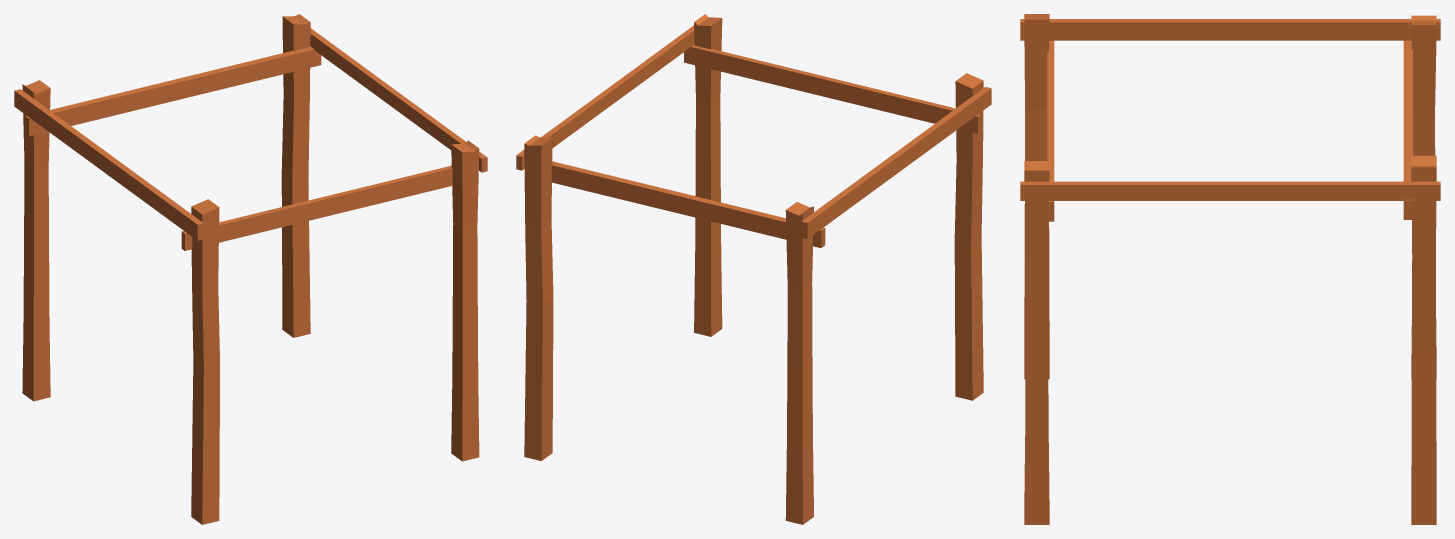
File: wood-base-1.glb
3 renders of one model, left to right at view 1: azimuth 30°, elevation 25°; view 2: azimuth 150°, elevation 25°; view 3: azimuth 270°, elevation 25°, orthographic. The views are drawn at different scales.
Visible parts, largest first — view 1: WoodBase1; view 2: WoodBase1; view 3: WoodBase1.
Boxes of the visible parts, x1=… form: WoodBase1: x1=14, y1=14, x2=487, y2=524; WoodBase1: x1=516, y1=14, x2=991, y2=524; WoodBase1: x1=1020, y1=14, x2=1440, y2=524.
Size of the model in its own units: 2 by 2.05 by 2.17.
